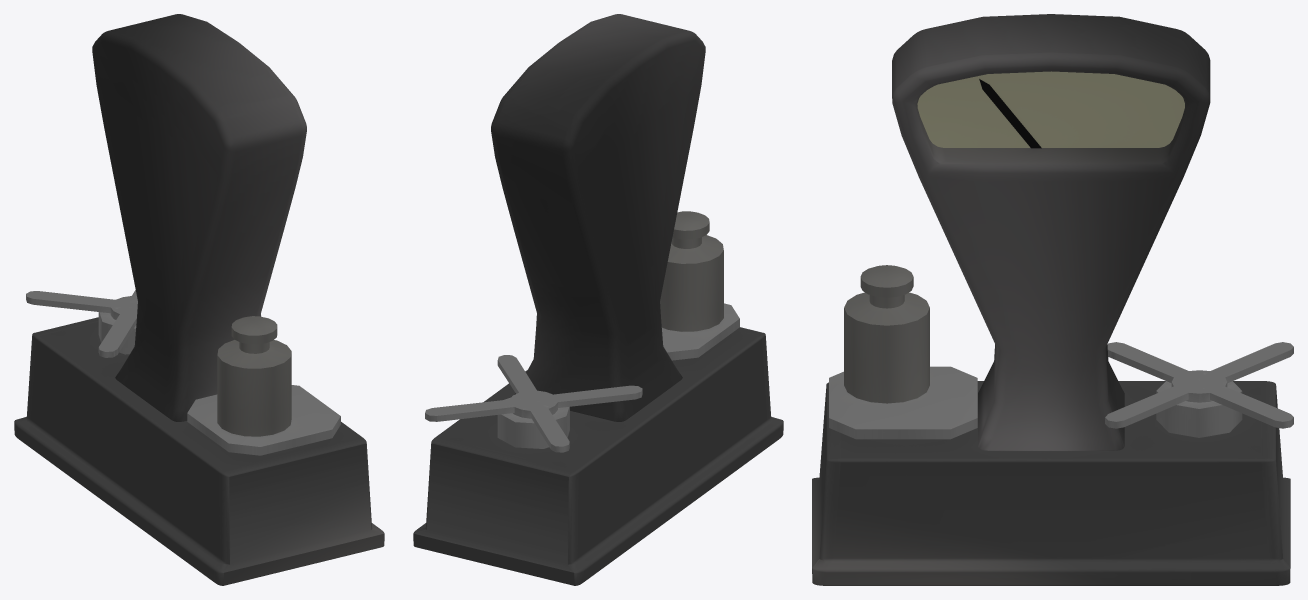
Rendered from Waga.gltf.
The picture shows the model from 3 angles, left to right: view 1: azimuth 30°, elevation 25°; view 2: azimuth 150°, elevation 25°; view 3: azimuth 270°, elevation 25°; orthographic projection. The views are drawn at different scales.
Visible parts, largest first — view 1: Cube.001; view 2: Cube.001; view 3: Cube.001.
Boxes of the visible parts, bbox=[...] form: Cube.001: bbox=[14, 14, 384, 585]; Cube.001: bbox=[413, 14, 783, 585]; Cube.001: bbox=[812, 14, 1293, 585].
Bounding box in the file's own units: 5.14 × 13.03 × 11.23.
1 material, 1 textured.
